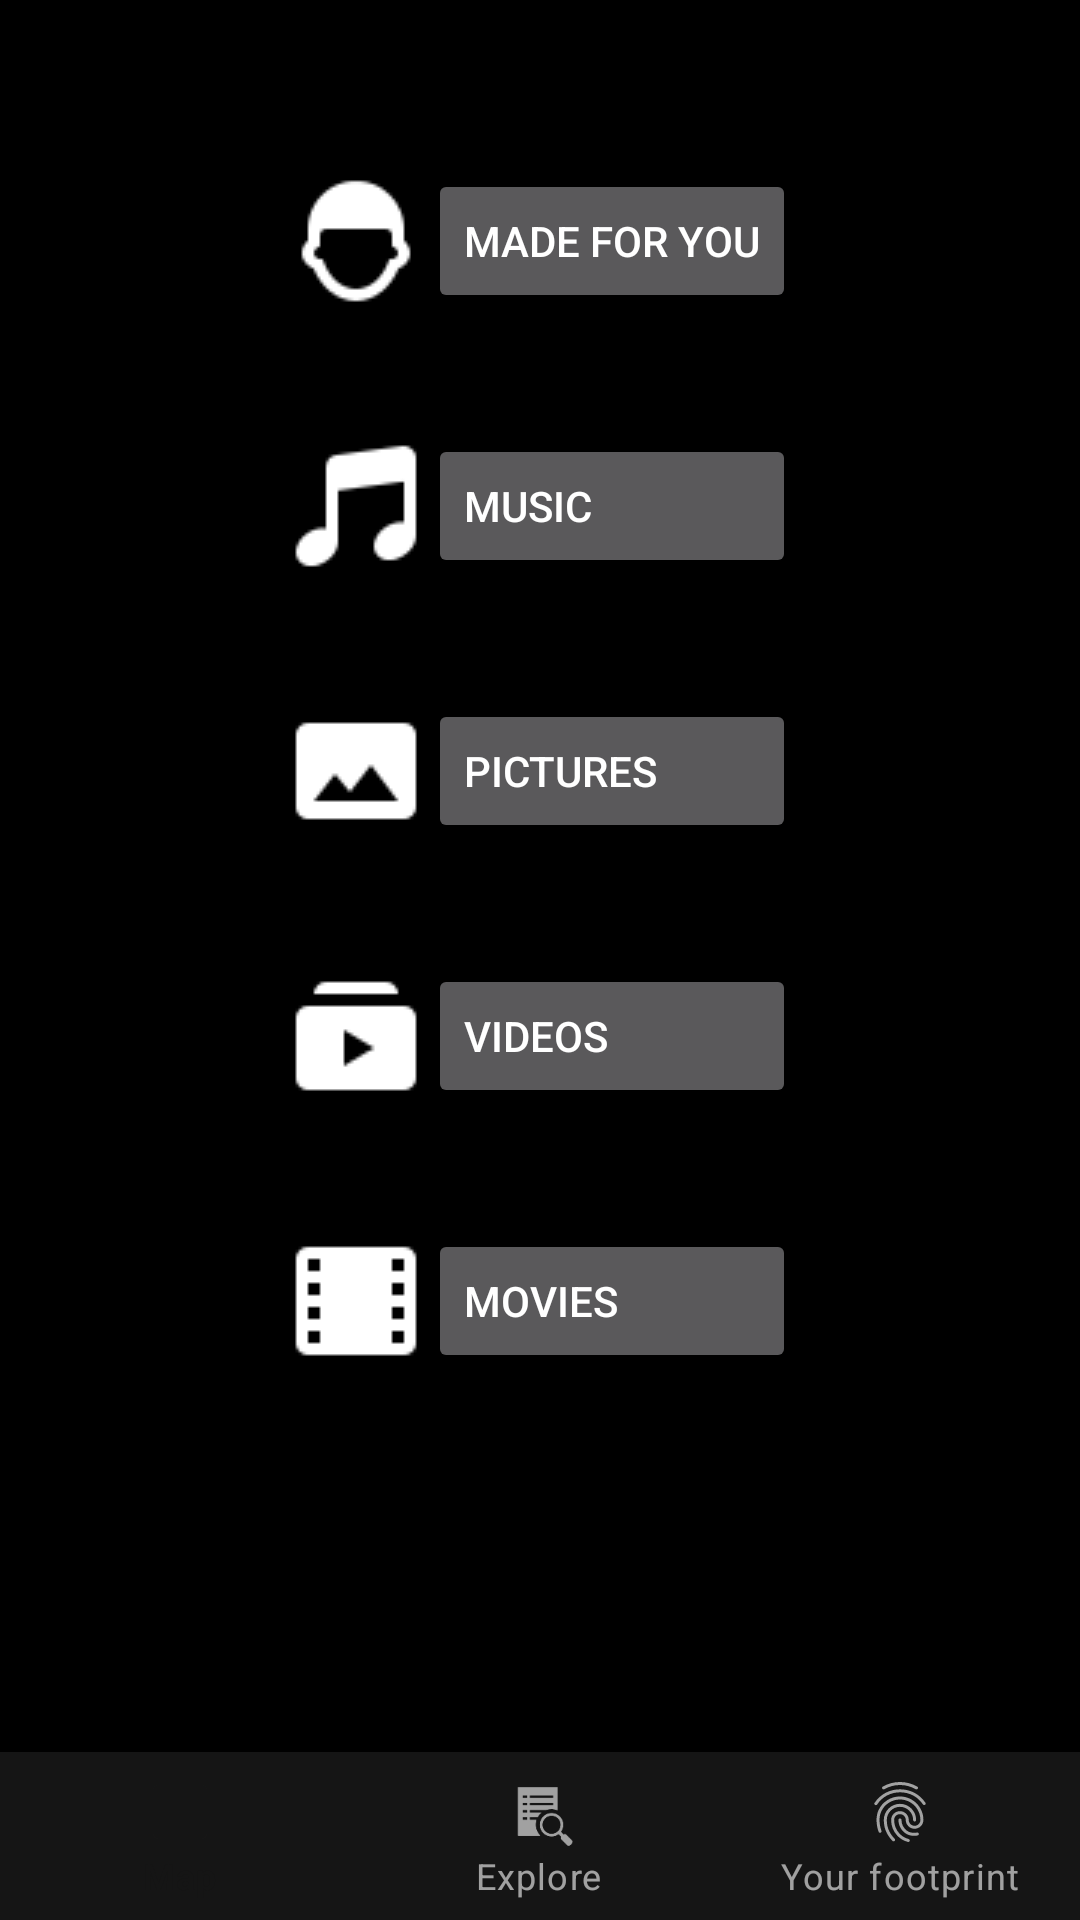

Icons on this 1080 × 1920 Android screen, each with its box as (x1, y1, x2, y2):
user: (301, 180, 411, 302)
